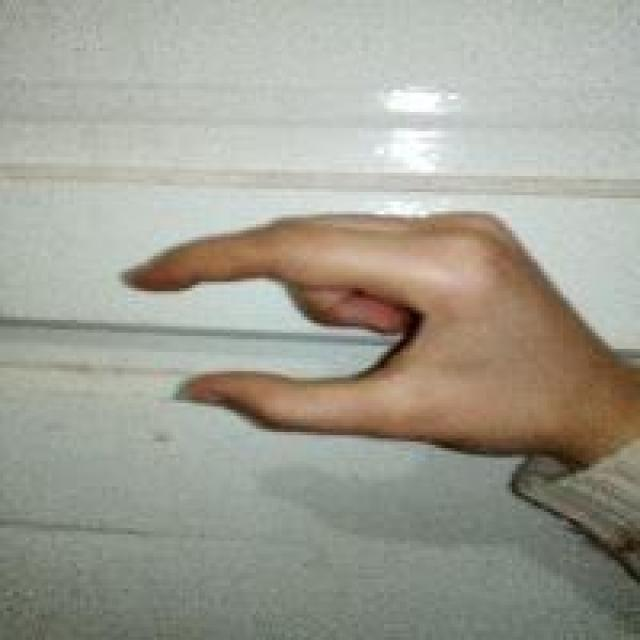Q: (117, 203, 590, 459)
